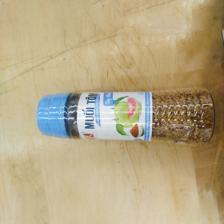TayNinh_blue: (34, 89, 215, 143)
